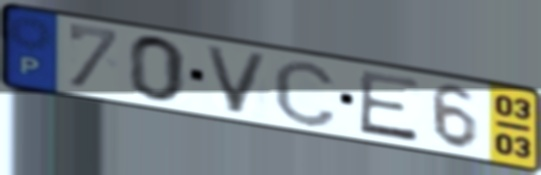0: (125, 34, 194, 105)
6: (429, 82, 483, 152)
7: (65, 20, 120, 92)
C: (270, 57, 339, 130)
E: (356, 68, 423, 145)
V: (200, 42, 272, 117)
